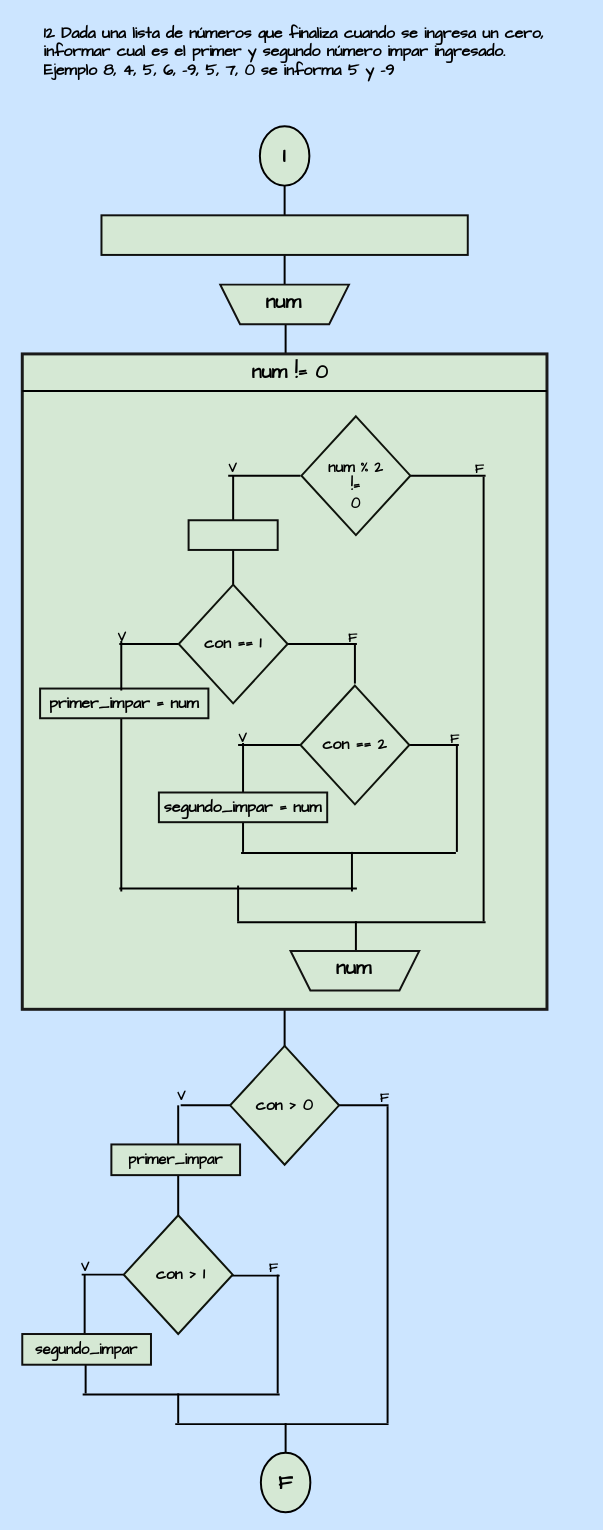
Image size: 603x1530. Some labels were removed from this diagram. Each missing label, with the centre of its shape:
"con++" goes at point 232,534.
"int num, primer_impar = 0, segundo_impar = 0, con = 0" goes at point 284,234.
